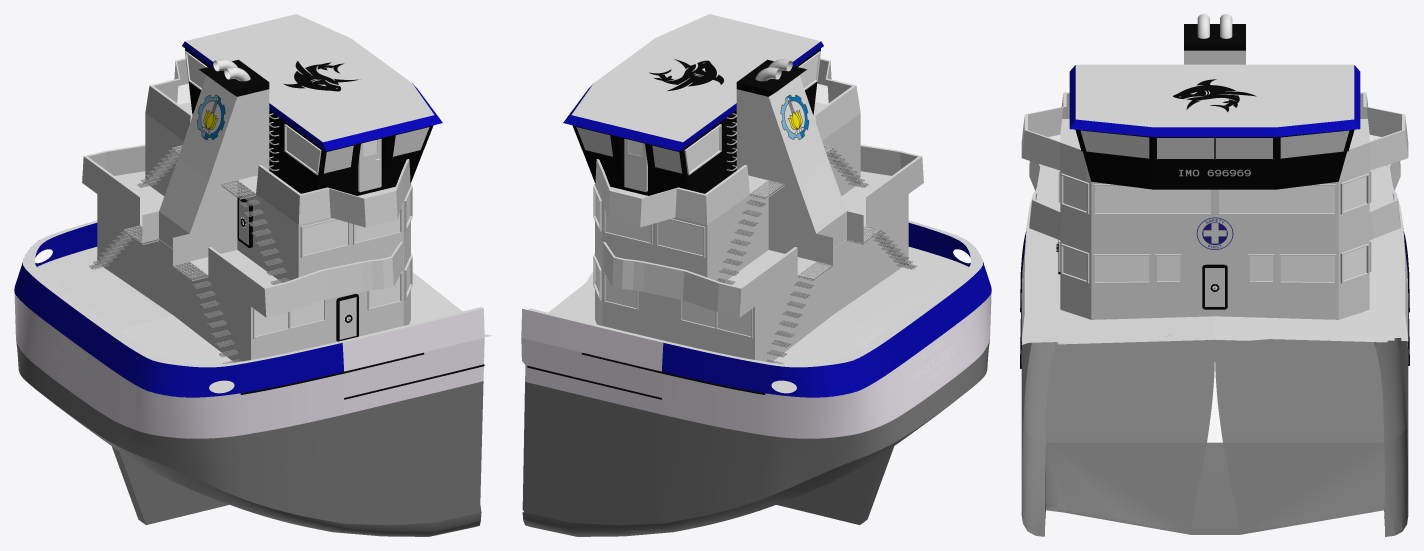
Rendered from cargo_ship_01_stern.glb.
3 views of the same model, side by side, from view 1: azimuth 30°, elevation 25°; view 2: azimuth 150°, elevation 25°; view 3: azimuth 270°, elevation 25° (orthographic).
Visible parts, largest first — view 1: stern; view 2: stern; view 3: stern.
Boxes of the visible parts, x1,y1,x2,y2 form: stern: (14,14,492,536); stern: (521,14,991,536); stern: (1020,14,1409,536).
Size of the model in its own units: 12.6 by 15.74 by 12.6.
16 materials, 5 textured.
